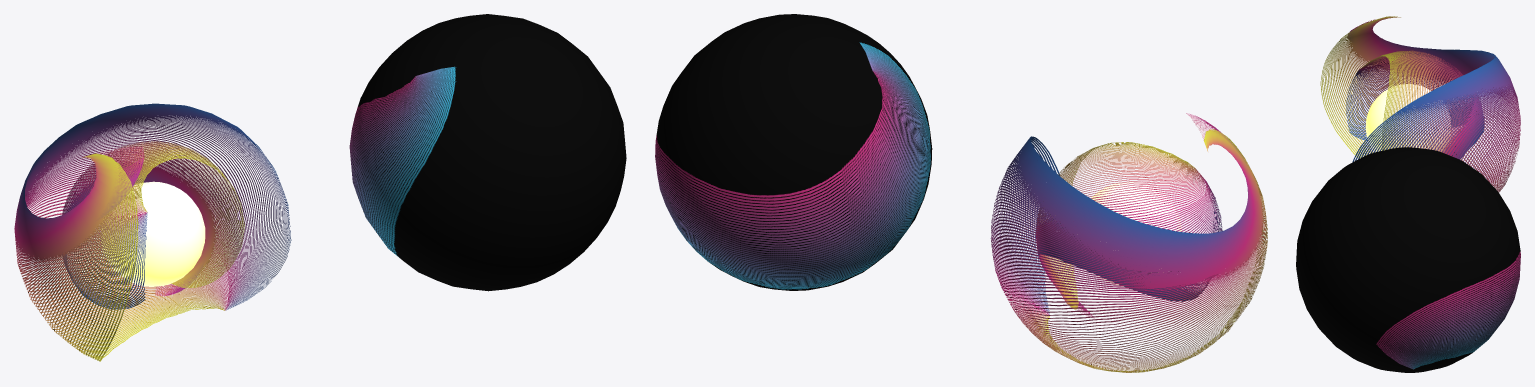
3 renders of one model, left to right at view 1: azimuth 30°, elevation 25°; view 2: azimuth 150°, elevation 25°; view 3: azimuth 270°, elevation 25°, orthographic. The views are drawn at different scales.
Visible parts, largest first — view 1: Sphere.003, Sphere, Sphere.002, Sphere.001; view 2: Sphere.003, Sphere, Sphere.002, Sphere.001; view 3: Sphere.003, Sphere, Sphere.002, Sphere.001.
Boxes of the visible parts, left/top/right/bottom form: Sphere.003: left=349, top=14, right=626, bottom=291; Sphere: left=14, top=103, right=291, bottom=361; Sphere.002: left=62, top=141, right=244, bottom=309; Sphere.001: left=100, top=181, right=205, bottom=286; Sphere.003: left=655, top=14, right=932, bottom=290; Sphere: left=990, top=113, right=1267, bottom=372; Sphere.002: left=1035, top=142, right=1222, bottom=318; Sphere.001: left=1091, top=182, right=1181, bottom=286; Sphere.003: left=1296, top=147, right=1520, bottom=372; Sphere: left=1320, top=16, right=1520, bottom=192; Sphere.002: left=1346, top=50, right=1484, bottom=159; Sphere.001: left=1365, top=84, right=1450, bottom=152.
Size of the model in its own units: 4.78 by 1.99 by 1.99.
Materials: 4 (2 with a texture image).
